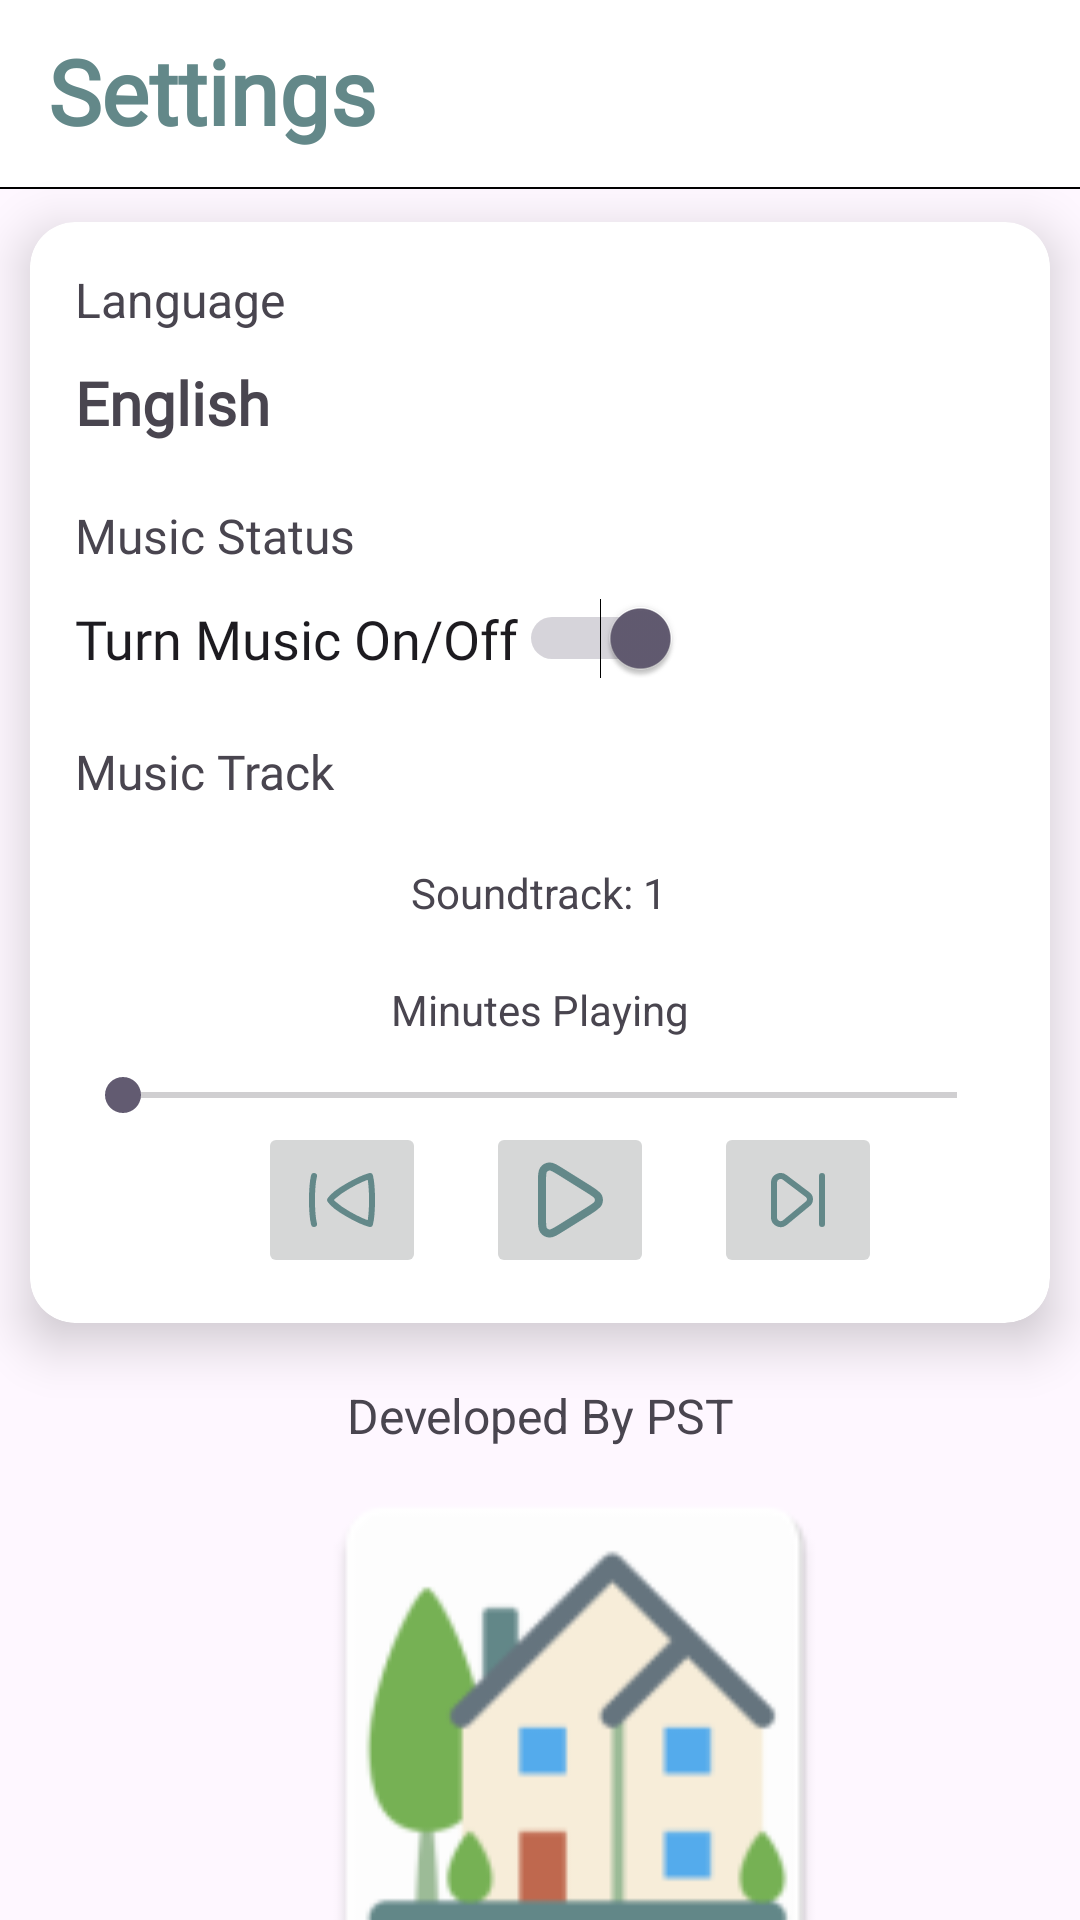

Screen size 1080*1920. Icon name, then its center in pixels as [x,y]:
next: [798,1200]
pre: [342,1200]
